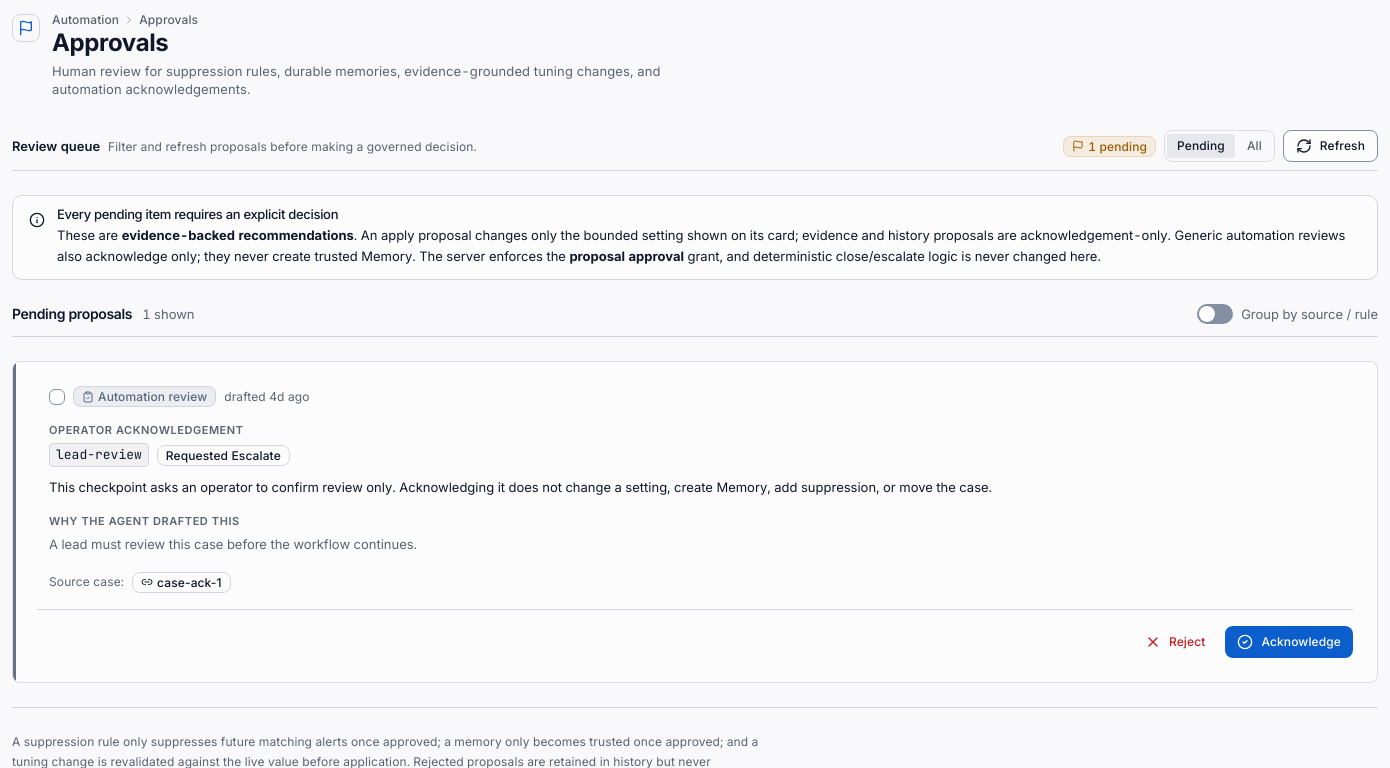
Test: Approvals automation acknowledgements › labels and groups the checkpoint without presenting it as trusted Memory
Expected: the text "Automation review" is shown, [73, 386, 216, 407]
Expected: the text "Operator acknowledgement" is shown, [49, 423, 244, 437]
Click the switch named "Group by source or rule": (1215, 314) [1197, 304, 1233, 324]
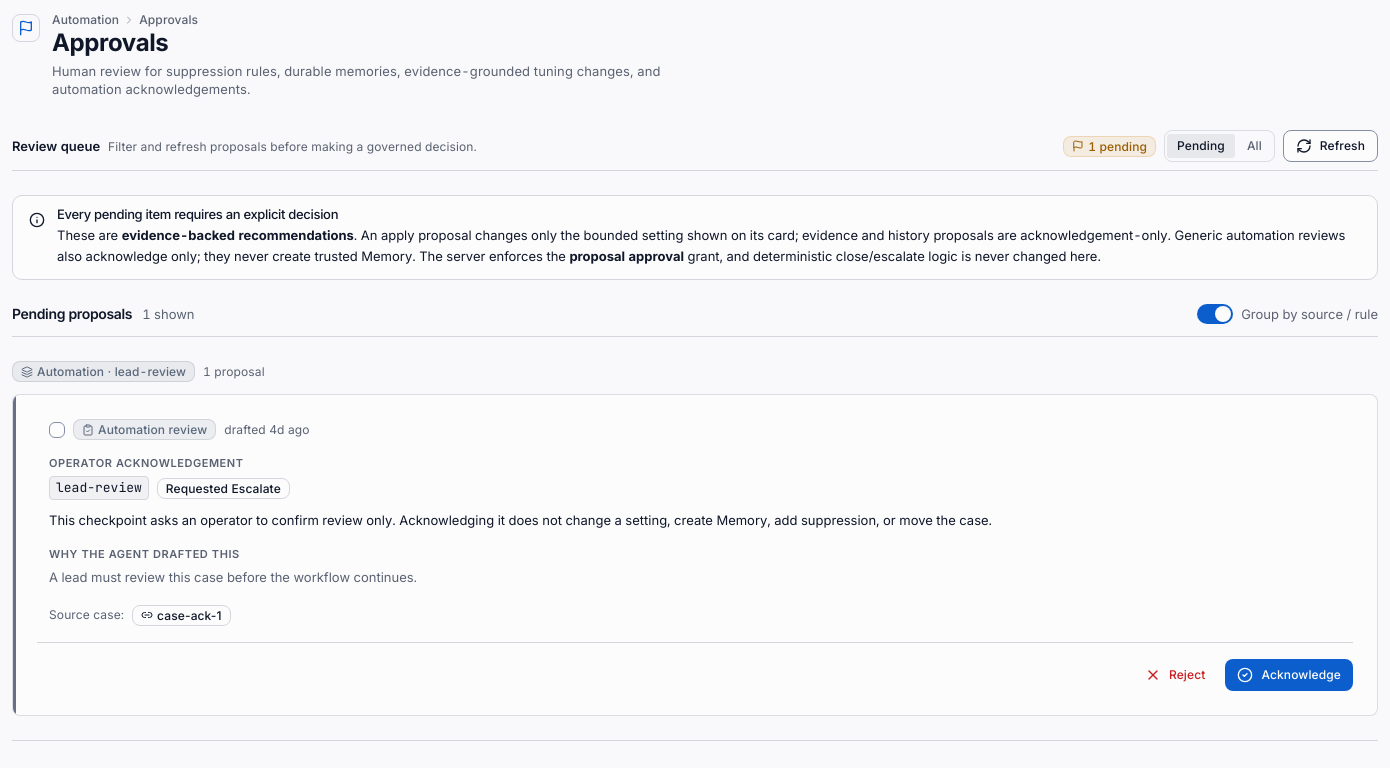
Expected: the text "Automation · lead-review" is shown, [12, 361, 195, 382]
